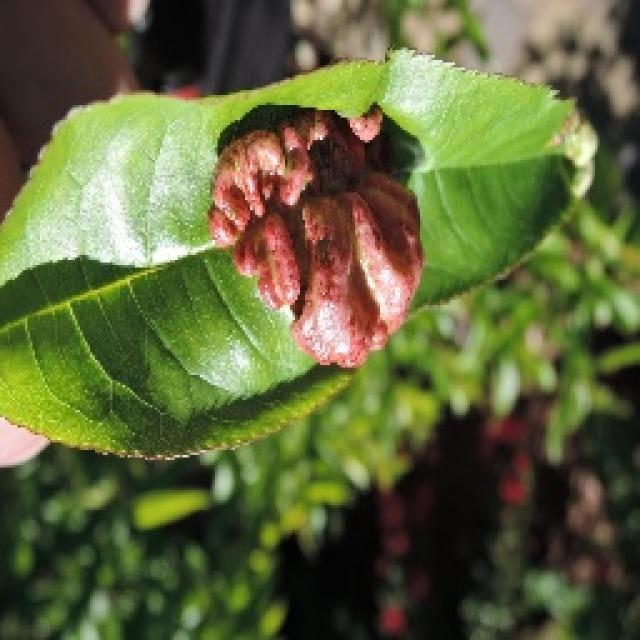peach_leaf_curl: (205, 102, 425, 370)
